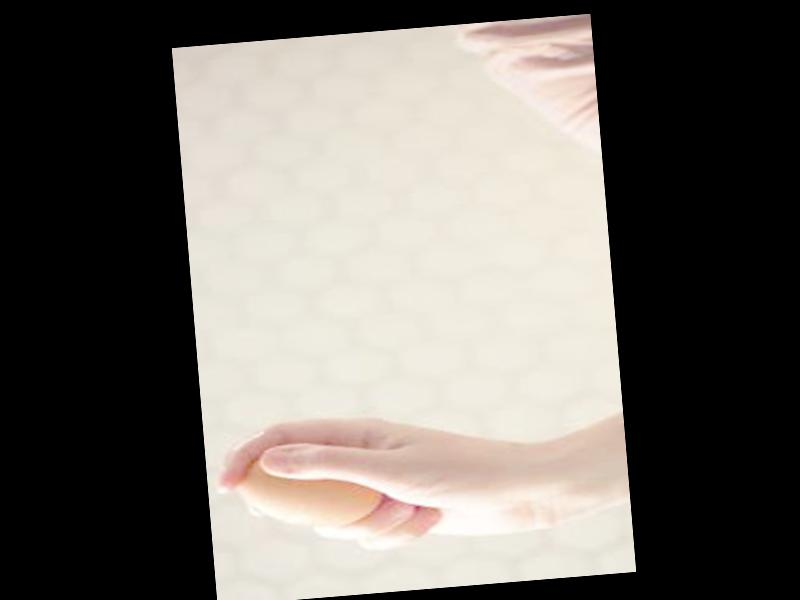Eggs: (238, 443, 384, 536)
